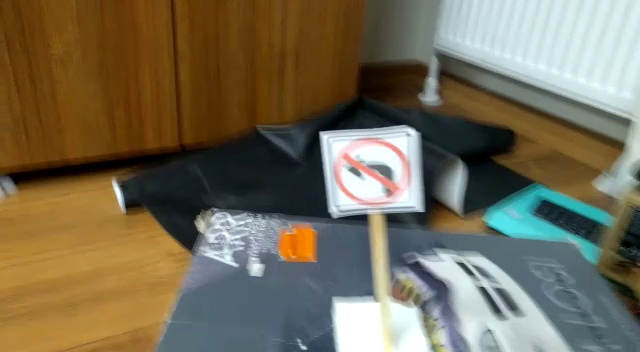sola_donulmez: (335, 132, 412, 212)
